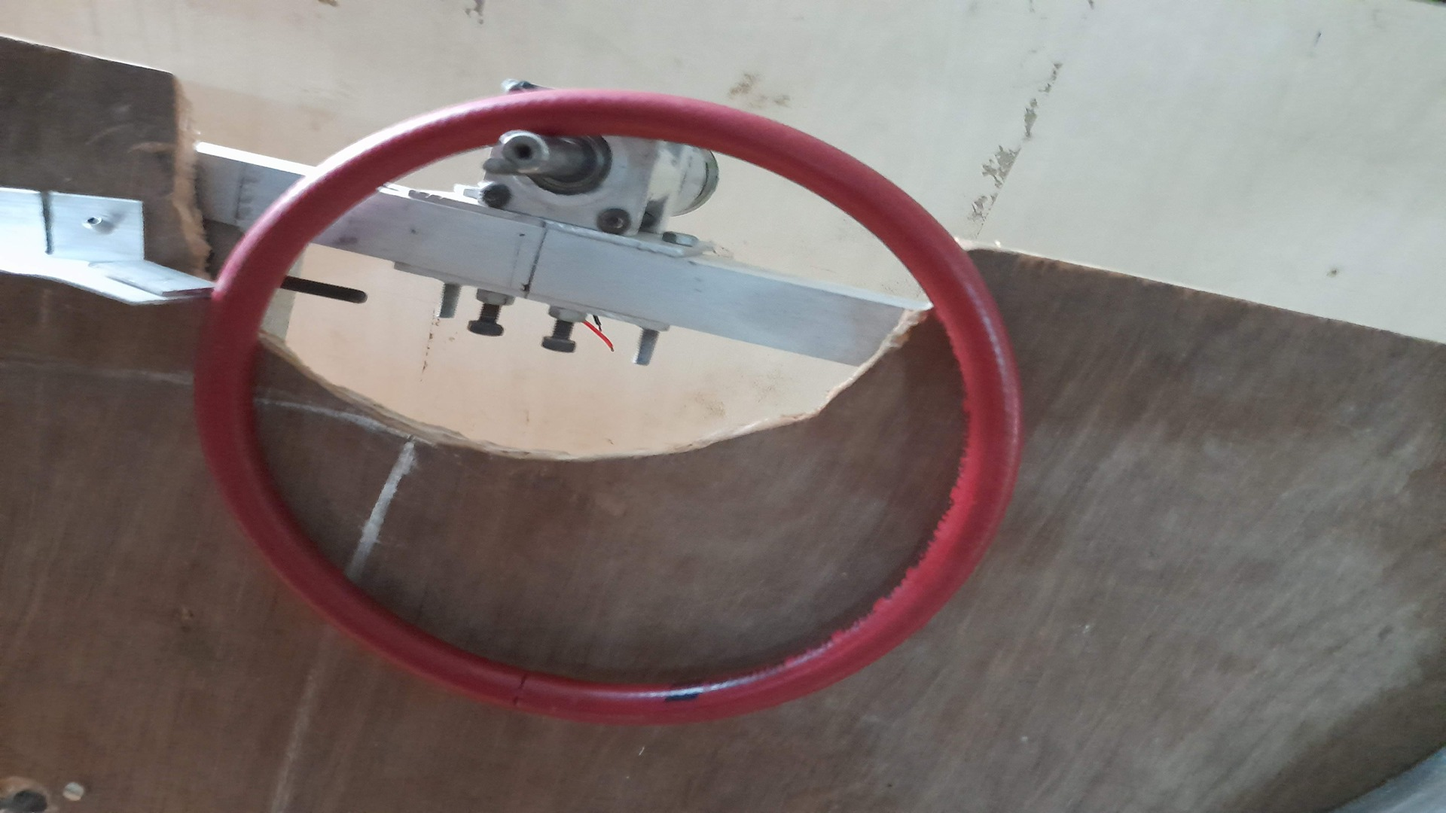Red ring: (205, 96, 1019, 725)
